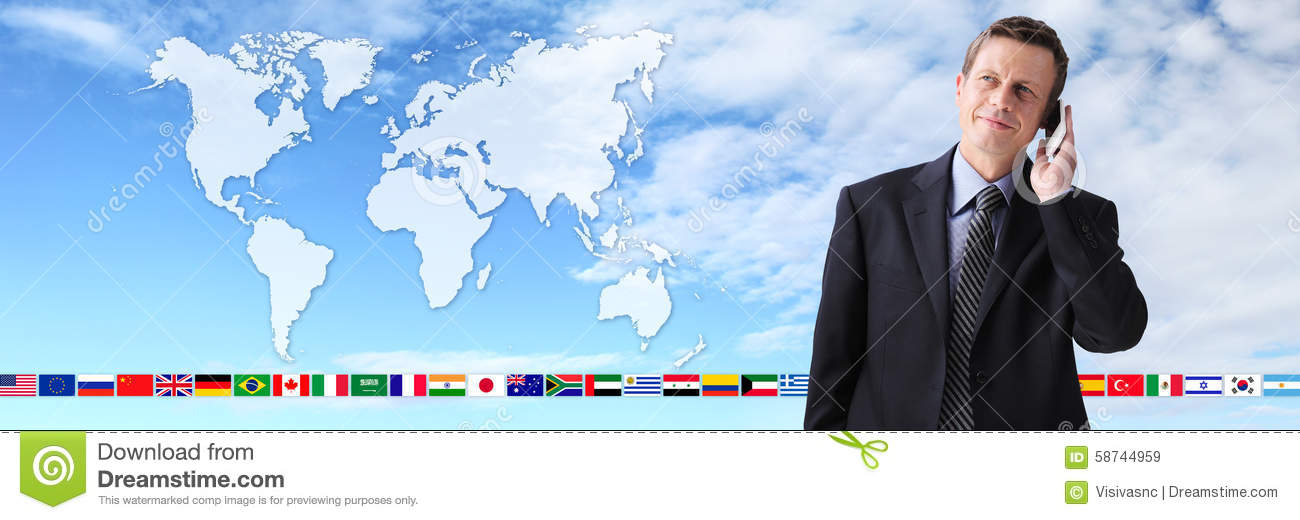phone: (1045, 92, 1067, 160)
talk: (968, 65, 1080, 192)
